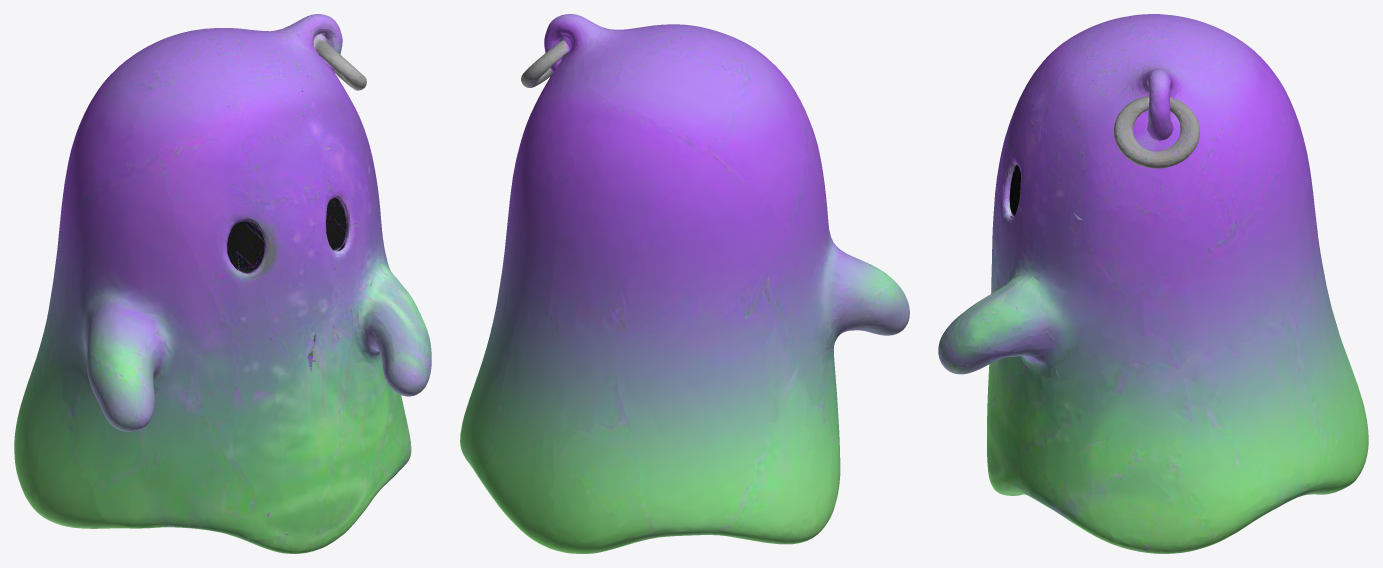
File: momo.glb
The picture shows the model from 3 angles, left to right: view 1: azimuth 30°, elevation 25°; view 2: azimuth 150°, elevation 25°; view 3: azimuth 270°, elevation 25°; orthographic projection.
Parts seen in each view (by area): view 1: mesh_node; view 2: mesh_node; view 3: mesh_node.
Part boxes in pixels (x1,y1,x2,y2): mesh_node: (14,14,431,553); mesh_node: (460,14,909,553); mesh_node: (938,14,1368,553).
Bounding box in the file's own units: 1.54 × 1.9 × 1.63.
1 material, 1 textured.
